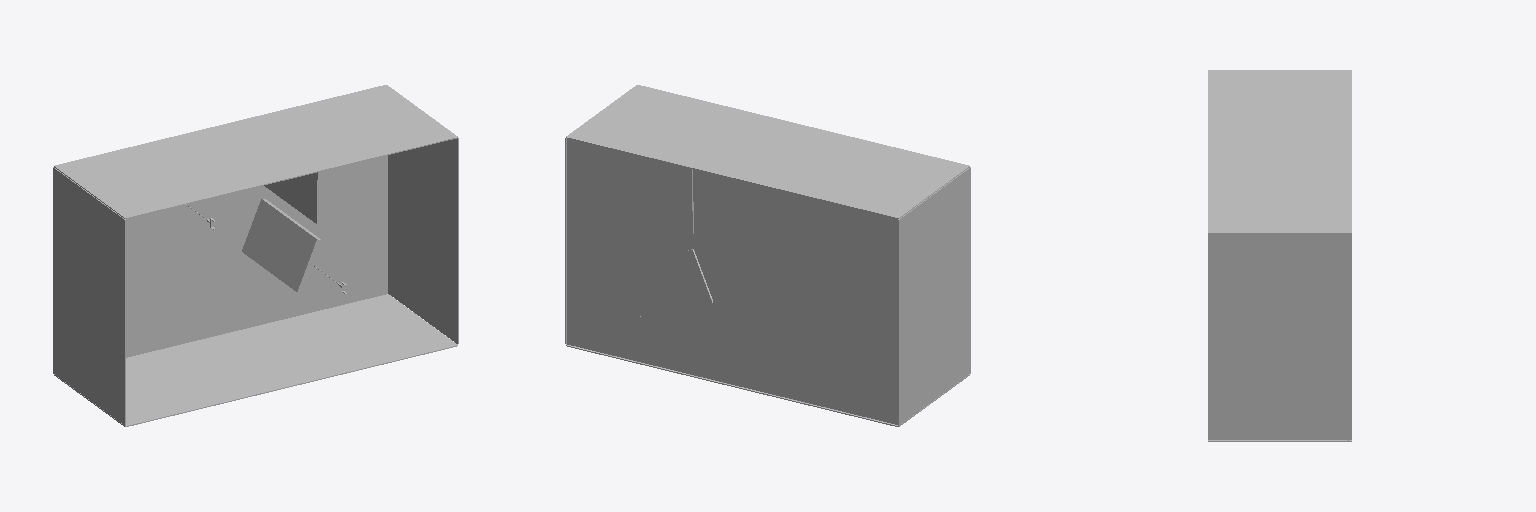
Rendered from LAAS_indoor_2rings_gaz.obj.
3 renders of one model, left to right at view 1: azimuth 30°, elevation 25°; view 2: azimuth 150°, elevation 25°; view 3: azimuth 270°, elevation 25°, orthographic.
Parts seen in each view (by area): view 1: Cube_Cube.007, Wall3_Cube.004, Wall4_Cube.005, Wall2_Cube.003, Wall2.001_Cube.006, Obsatcle2_Cube.010, Obsatcle1_Cube; view 2: Cube_Cube.007, Wall3_Cube.004, Wall2_Cube.003, Wall4_Cube.005; view 3: Wall2.001_Cube.006, Wall3_Cube.004.
Part boxes in pixels (left/top/right/bottom): Cube_Cube.007: left=126, top=155, right=387, bottom=357; Wall3_Cube.004: left=54, top=85, right=457, bottom=218; Wall4_Cube.005: left=54, top=294, right=457, bottom=426; Wall2_Cube.003: left=53, top=167, right=125, bottom=425; Wall2.001_Cube.006: left=388, top=138, right=458, bottom=343; Obsatcle2_Cube.010: left=242, top=199, right=322, bottom=293; Obsatcle1_Cube: left=264, top=171, right=322, bottom=223; Cube_Cube.007: left=567, top=139, right=897, bottom=424; Wall3_Cube.004: left=566, top=85, right=969, bottom=218; Wall2_Cube.003: left=898, top=167, right=970, bottom=425; Wall4_Cube.005: left=566, top=344, right=969, bottom=426; Wall2.001_Cube.006: left=1208, top=234, right=1351, bottom=439; Wall3_Cube.004: left=1208, top=70, right=1351, bottom=233.
Bounding box in the file's own units: 6.72 × 4.02 × 2.5.